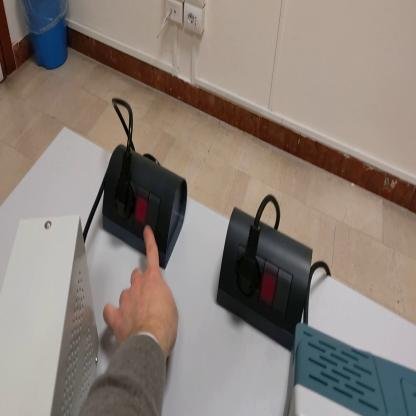hand: (105, 224, 179, 354)
oscilloscope: (285, 321, 416, 416)
power supply: (1, 216, 101, 416)
socket: (212, 205, 314, 358), (100, 148, 191, 272)
